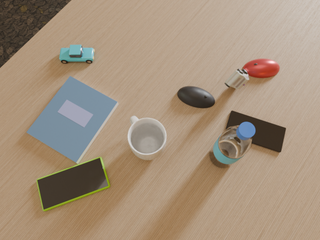book: (27, 76, 118, 164)
bottle: (210, 122, 255, 168)
cup: (128, 116, 166, 160)
mouse: (177, 86, 215, 108), (243, 59, 280, 78)
phone: (37, 157, 110, 211), (226, 111, 286, 152)
toy_car: (59, 45, 94, 63), (225, 69, 249, 89)
